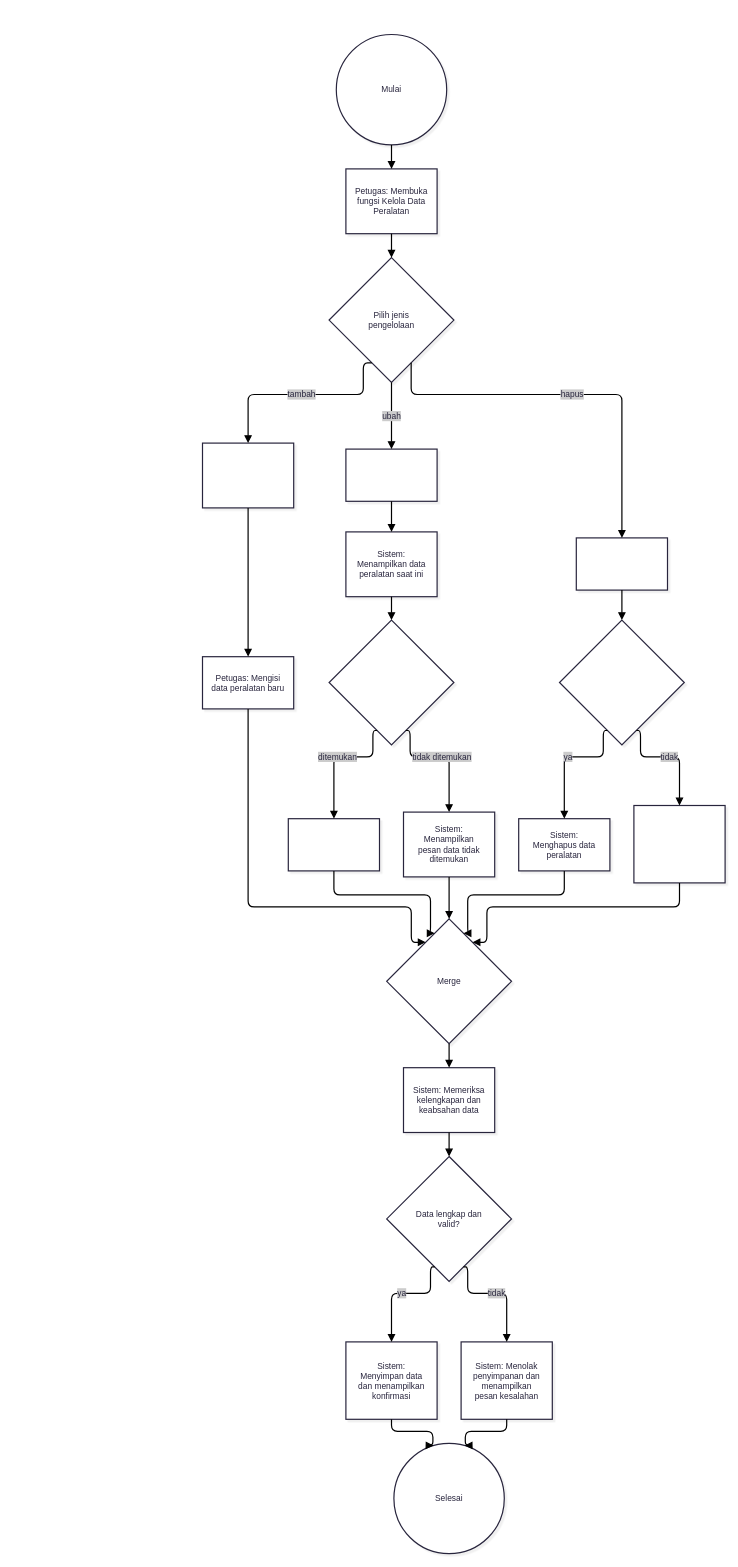
The diagram is 738 pixels wide and 1567 high, and some of its shapes have lost their labels. Each missing label, with the centre of its shape:
"Data peralatan ditemukan?" goes at point (392, 683).
"Petugas: Memilih peralatan yang akan dihapus" goes at point (622, 565).
"Petugas: Memilih peralatan yang akan diubah" goes at point (392, 476).
"Petugas: Mengubah data peralatan" goes at point (334, 846).
"Sistem: Menampilkan formulir data peralatan baru" goes at point (249, 476).
"Sistem: Menolak penghapusan dan menampilkan pesan" goes at point (680, 845).
"Tidak sedang dipinjam dan tidak memiliki pengajuan aktif?" goes at point (623, 683).
